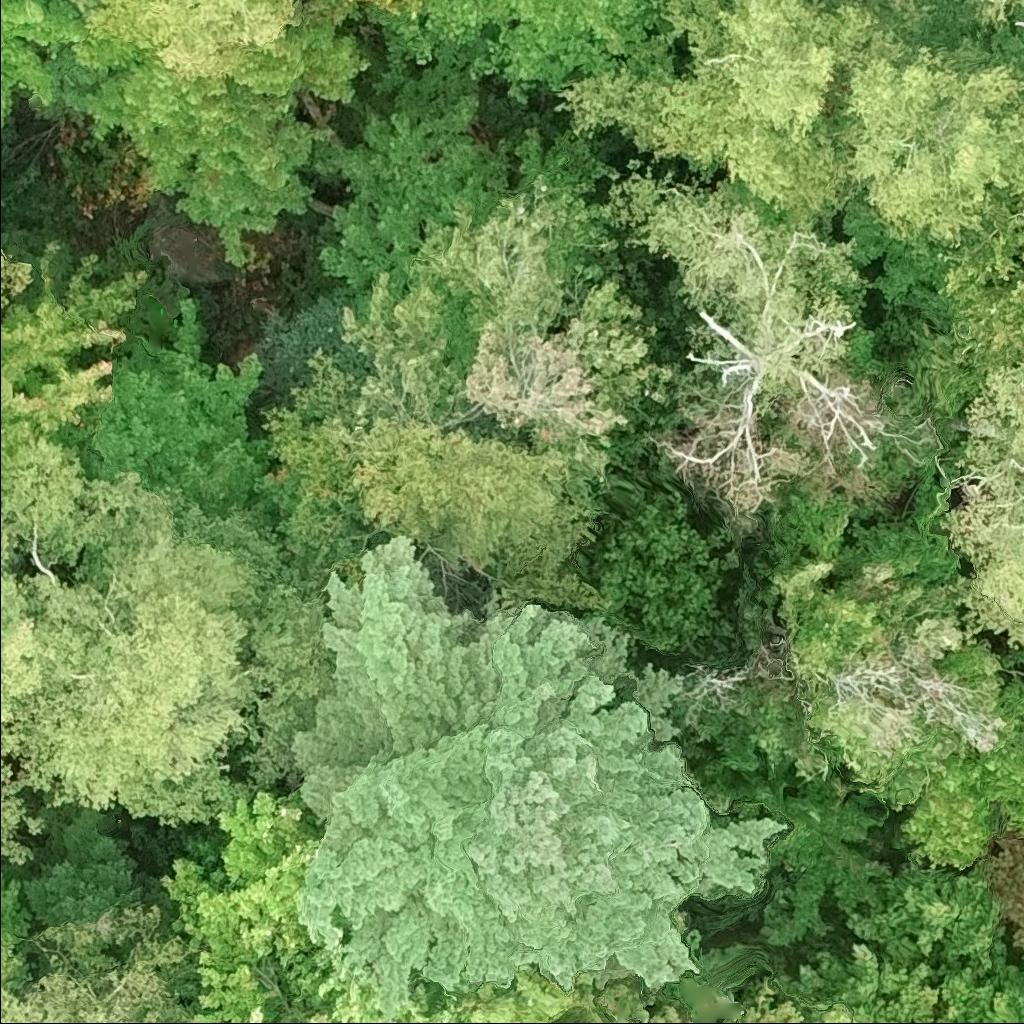crown: (289, 534, 790, 1023), (0, 439, 329, 868), (766, 520, 1008, 787), (158, 788, 384, 1023), (0, 798, 183, 963), (872, 676, 1023, 873), (0, 905, 198, 1023), (851, 855, 1001, 975), (776, 932, 938, 1023), (395, 967, 595, 1023), (933, 926, 1023, 1023), (188, 959, 284, 1023), (727, 977, 853, 1023), (0, 876, 40, 992), (553, 1004, 698, 1023), (304, 1009, 334, 1023)
